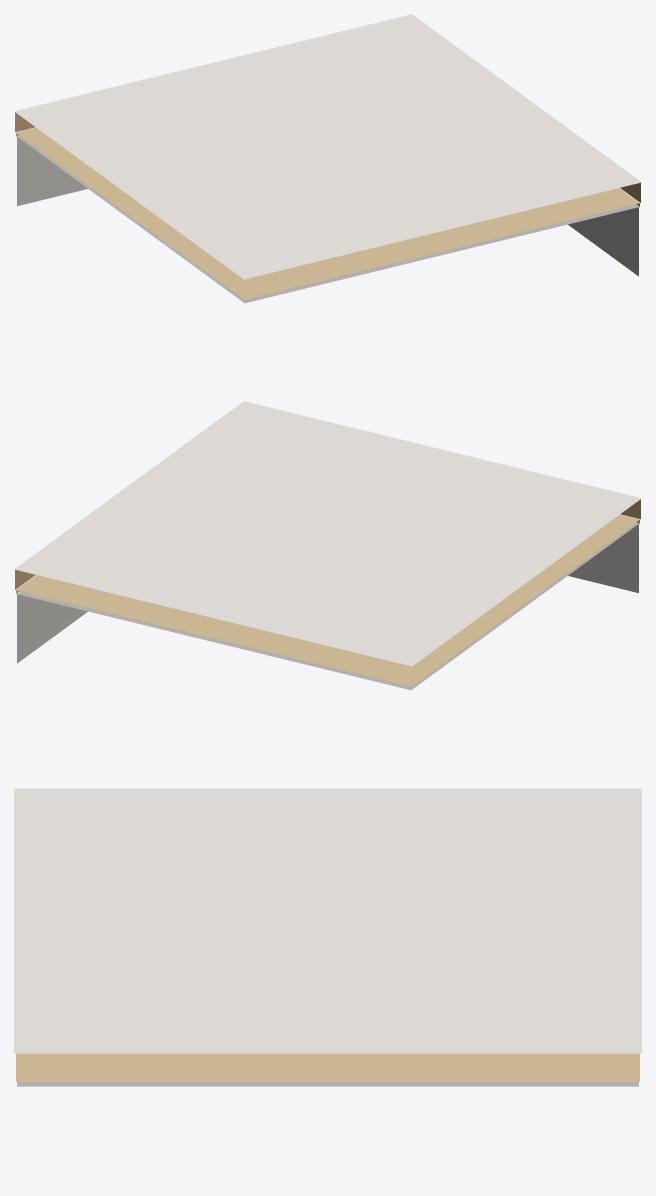
File: parquet.glb
The picture shows the model from 3 angles, top to bottom: view 1: azimuth 30°, elevation 25°; view 2: azimuth 150°, elevation 25°; view 3: azimuth 270°, elevation 25°; orthographic projection. The views are drawn at different scales.
Visible parts, largest first — view 1: topcoat, primer, substrate; view 2: topcoat, primer, substrate; view 3: topcoat, primer, substrate.
Boxes of the visible parts, bbox=[...] form: topcoat: bbox=[14, 14, 641, 279]; primer: bbox=[16, 127, 639, 299]; substrate: bbox=[17, 136, 638, 303]; topcoat: bbox=[14, 401, 641, 666]; primer: bbox=[16, 514, 639, 686]; substrate: bbox=[17, 523, 638, 690]; topcoat: bbox=[14, 788, 641, 1053]; primer: bbox=[16, 1053, 639, 1081]; substrate: bbox=[17, 1081, 638, 1086].
Bounding box in the file's own units: 0.3 × 0.0681 × 0.3.
